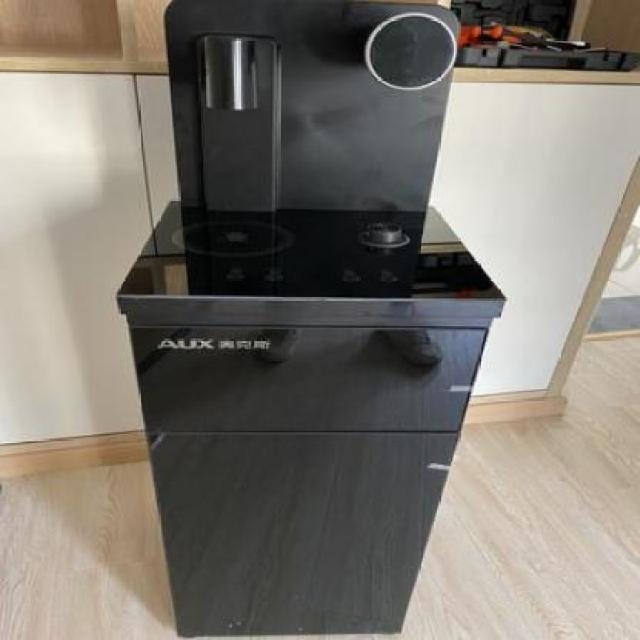cooler: (109, 0, 511, 640)
